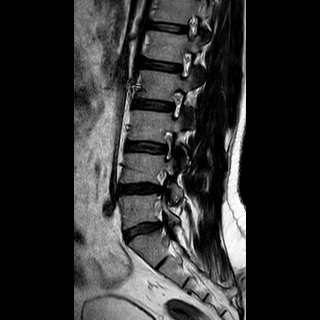RFS0: (164, 83, 187, 123), (175, 43, 198, 83)
RFS2: (155, 126, 180, 164)
